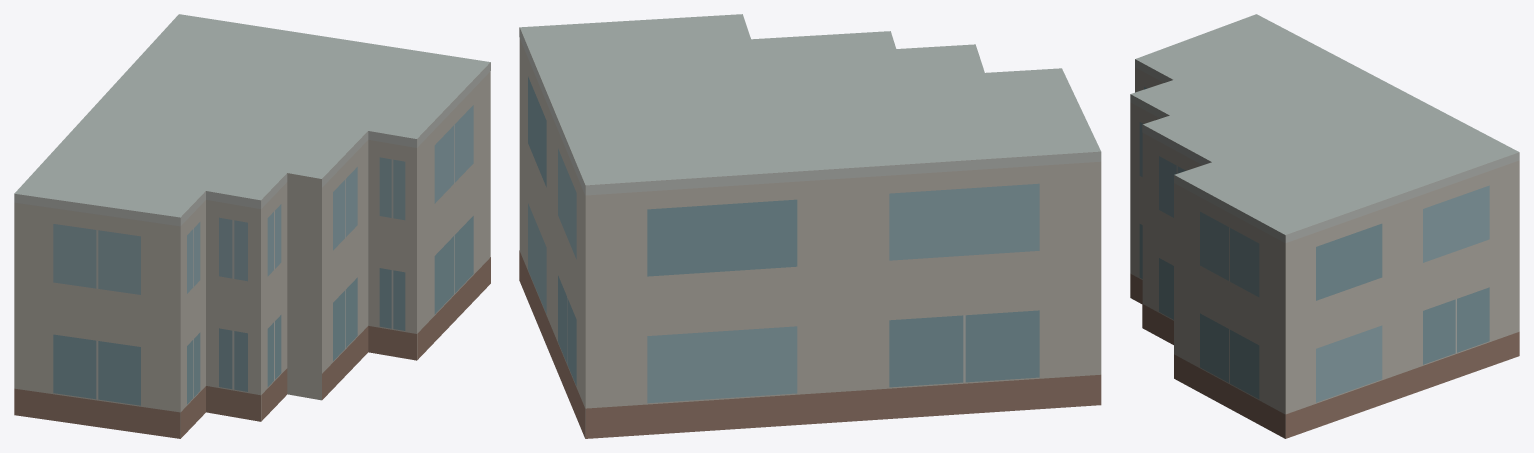
Rendered from survey-upis-32804888.glb.
3 renders of one model, left to right at view 1: azimuth 30°, elevation 25°; view 2: azimuth 150°, elevation 25°; view 3: azimuth 270°, elevation 25°, orthographic. The views are drawn at different scales.
Visible parts, largest first — view 1: survey-upis-32804888.tmp; view 2: survey-upis-32804888.tmp; view 3: survey-upis-32804888.tmp.
Boxes of the visible parts, left/top/right/bottom form: survey-upis-32804888.tmp: left=14, top=14, right=490, bottom=438; survey-upis-32804888.tmp: left=519, top=14, right=1101, bottom=438; survey-upis-32804888.tmp: left=1130, top=14, right=1519, bottom=438.
Bounding box in the file's own units: 14.2 × 6.1 × 10.57.
